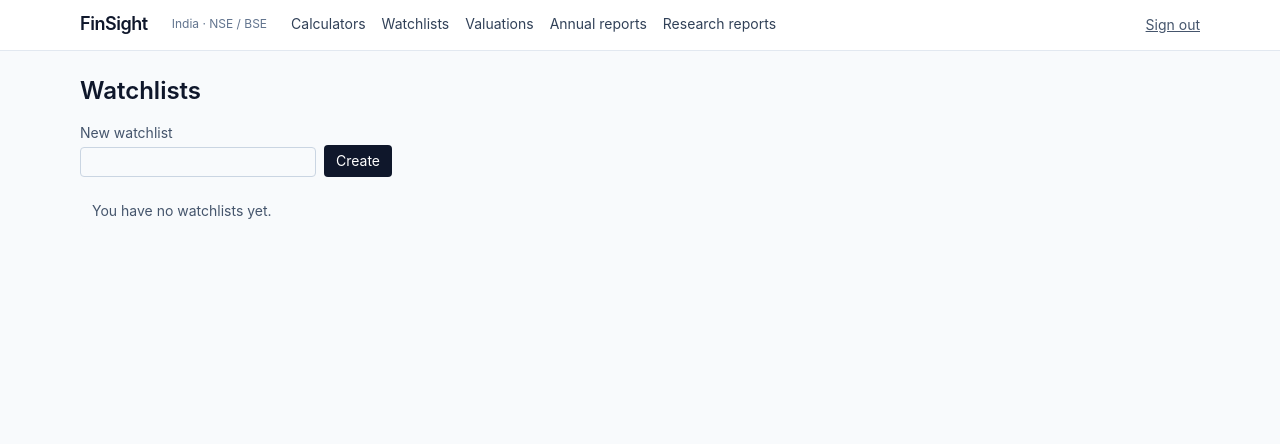
it: watchlists and saved valuations › creates a watchlist and adds an Indian company
This screenshot has width=1280, height=444.
Check: the text "You have no watchlists yet." is shown, box x1=80 y1=193 x2=1200 y2=229
In the field labelled "New watchlist": (198,162) x1=80 y1=147 x2=316 y2=177, type "Banks"
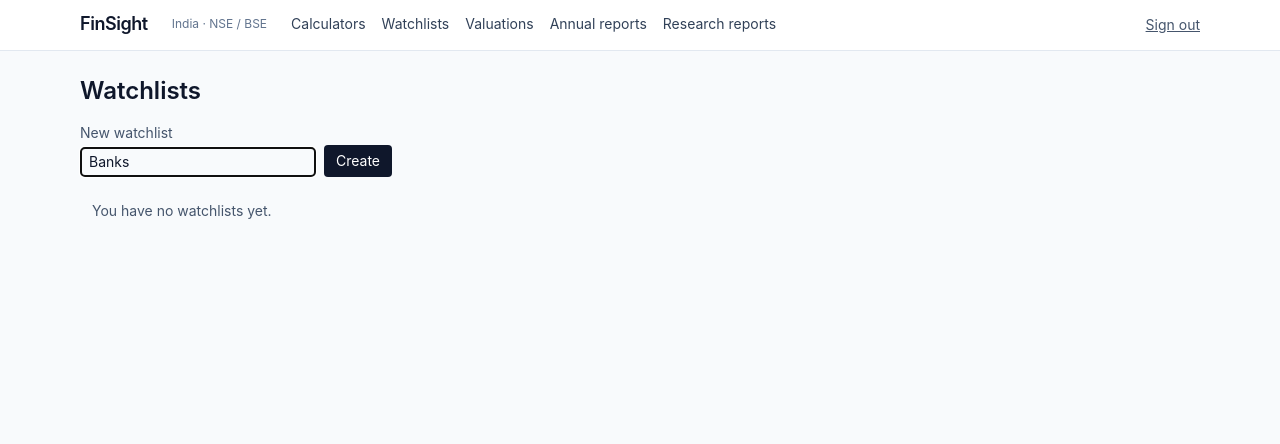
Click the button "Create": (358,161) x1=324 y1=145 x2=392 y2=177
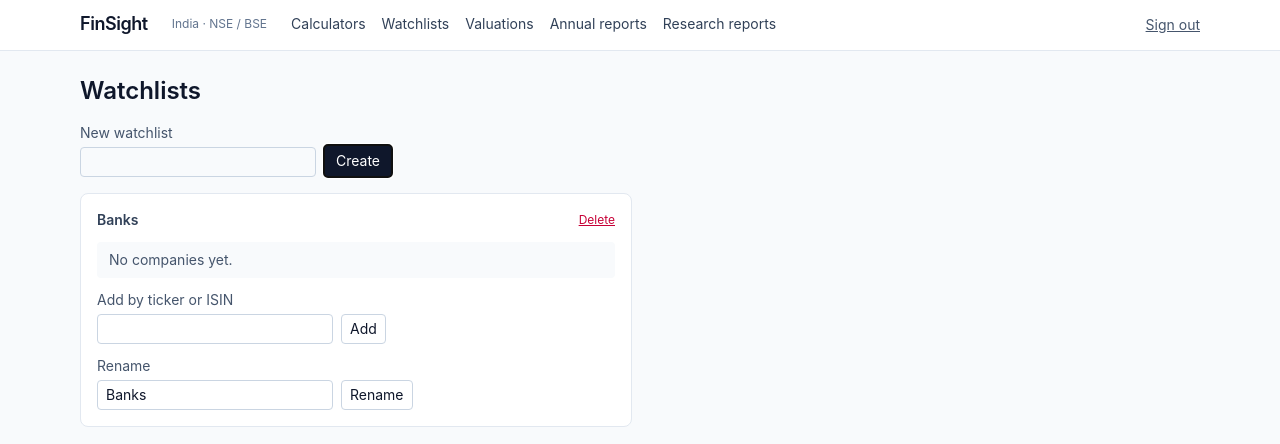
In the field labelled "Add by ticker or ISIN": (215,329) x1=97 y1=314 x2=333 y2=344, type "demoinfo"
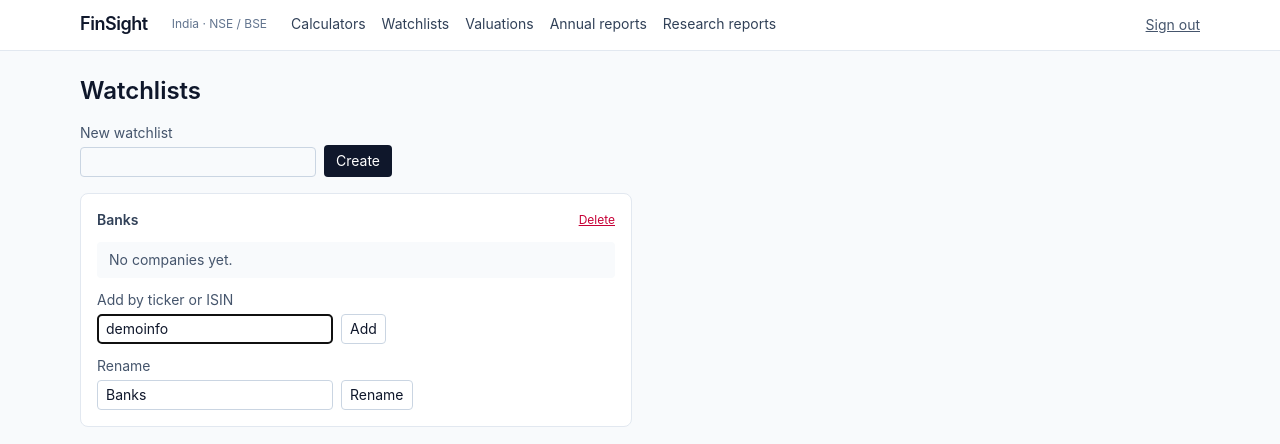
Click the button "Add": (363,329) x1=341 y1=314 x2=386 y2=344
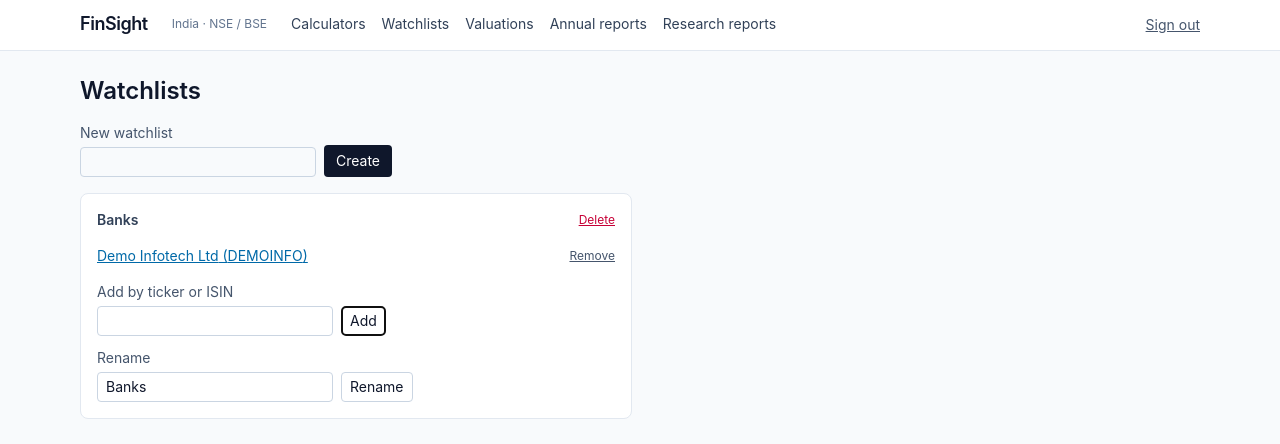
Check: the link "Demo Infotech Ltd (DEMOINFO)" is shown, box x1=97 y1=246 x2=308 y2=266
